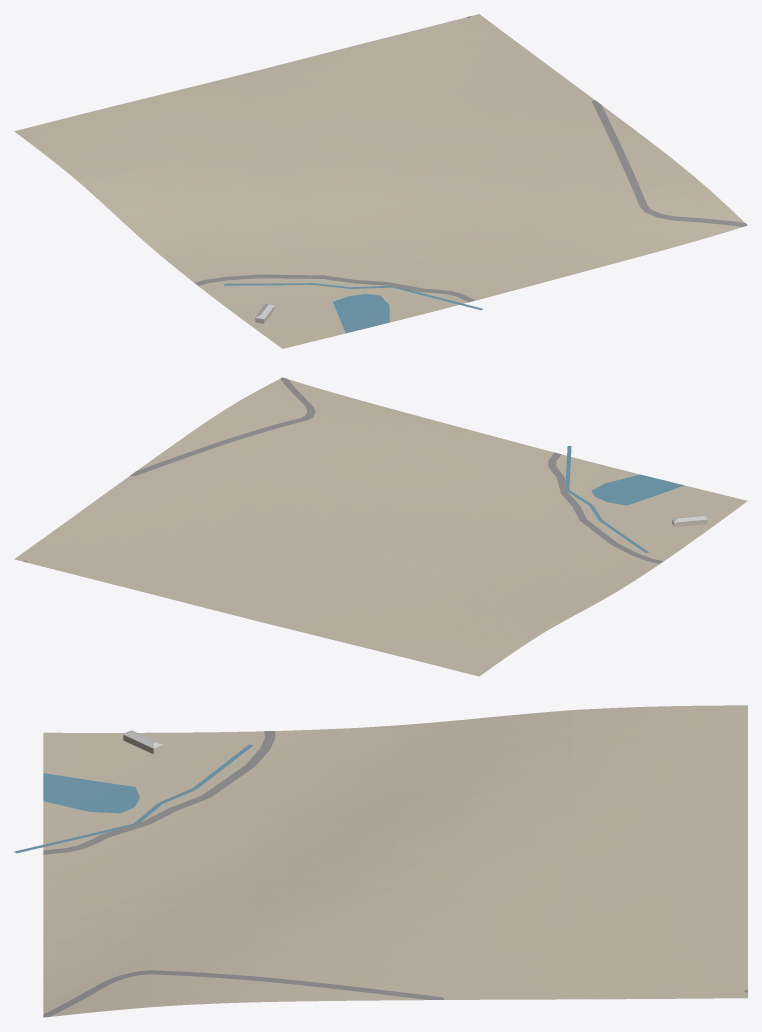
The model's file is bolak_-8_-12.glb.
3 renders of one model, top to bottom at view 1: azimuth 30°, elevation 25°; view 2: azimuth 150°, elevation 25°; view 3: azimuth 270°, elevation 25°, orthographic. The views are drawn at different scales.
Parts seen in each view (by area): view 1: Yer_Tuproq-col, Yol_Mahalla-col, Suv; view 2: Yer_Tuproq-col, Yol_Mahalla-col, Suv; view 3: Yer_Tuproq-col, Yol_Mahalla-col, Suv.
Part boxes in pixels (x1=…): Yer_Tuproq-col: x1=14, y1=14, x2=745, y2=348; Yol_Mahalla-col: x1=194, y1=16, x2=747, y2=301; Suv: x1=224, y1=283, x2=482, y2=333; Yer_Tuproq-col: x1=14, y1=379, x2=747, y2=676; Yol_Mahalla-col: x1=23, y1=377, x2=662, y2=563; Suv: x1=566, y1=446, x2=683, y2=552; Yer_Tuproq-col: x1=43, y1=705, x2=747, y2=1017; Yol_Mahalla-col: x1=43, y1=731, x2=747, y2=1017; Suv: x1=14, y1=744, x2=253, y2=853.
Size of what is drawn, in the model's own units: 400 by 20.8 by 417.
